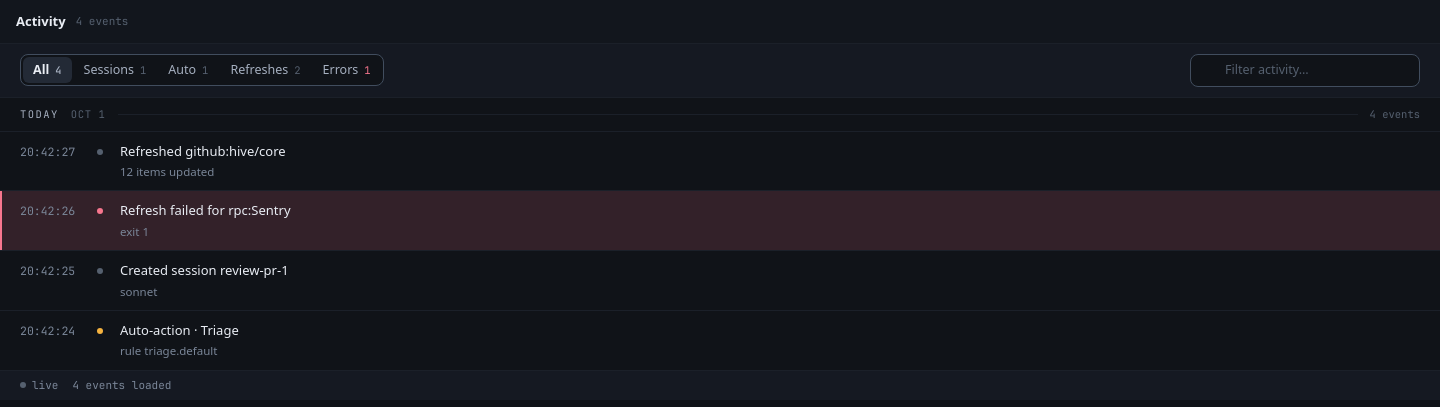
ActivityView › filters to errors by severity, not category
What coordinates should you click on to do the following:
click the button with test id "activity-filter-error"
I would click on:
 (347, 70)
Its box is [312, 57, 381, 83].
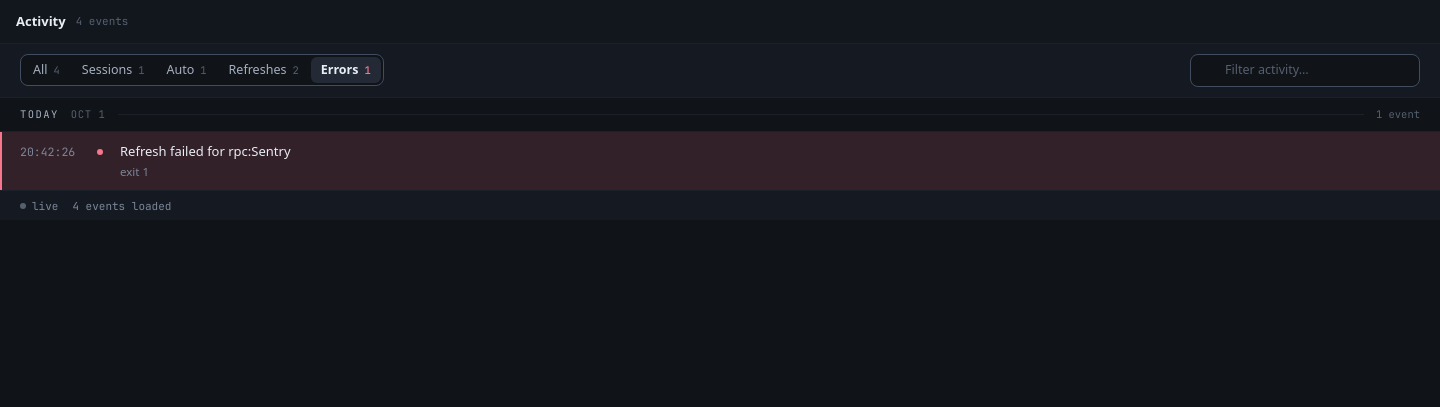
Check: the element with test id "activity-row" shows "Refresh failed for rpc:Sentry", box [120, 142, 290, 160]
Check: the number of elements with test id "activity-row" is 1, box [0, 132, 1439, 190]
